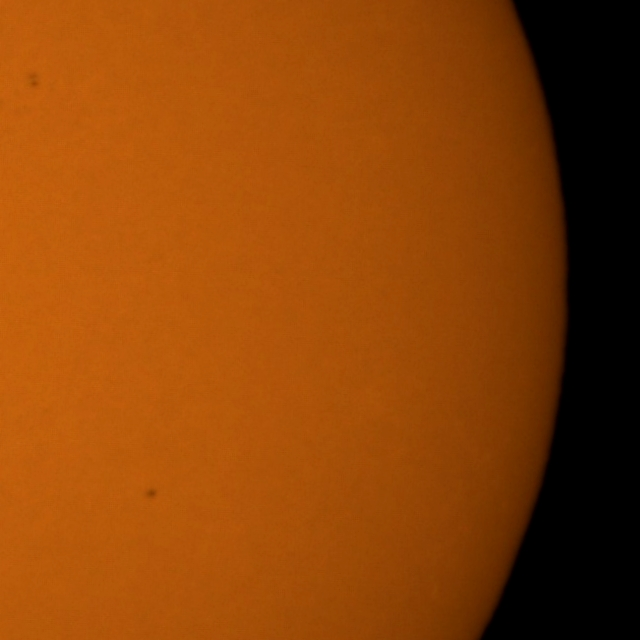sunspot: (26, 71, 42, 91), (144, 485, 159, 503)
